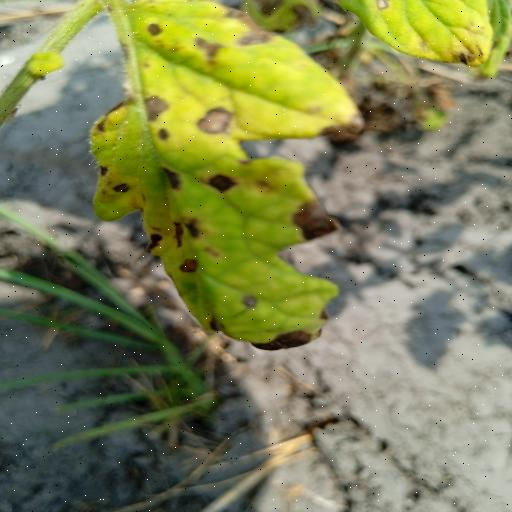Tomato_Brown_Spots: (84, 0, 365, 353)
